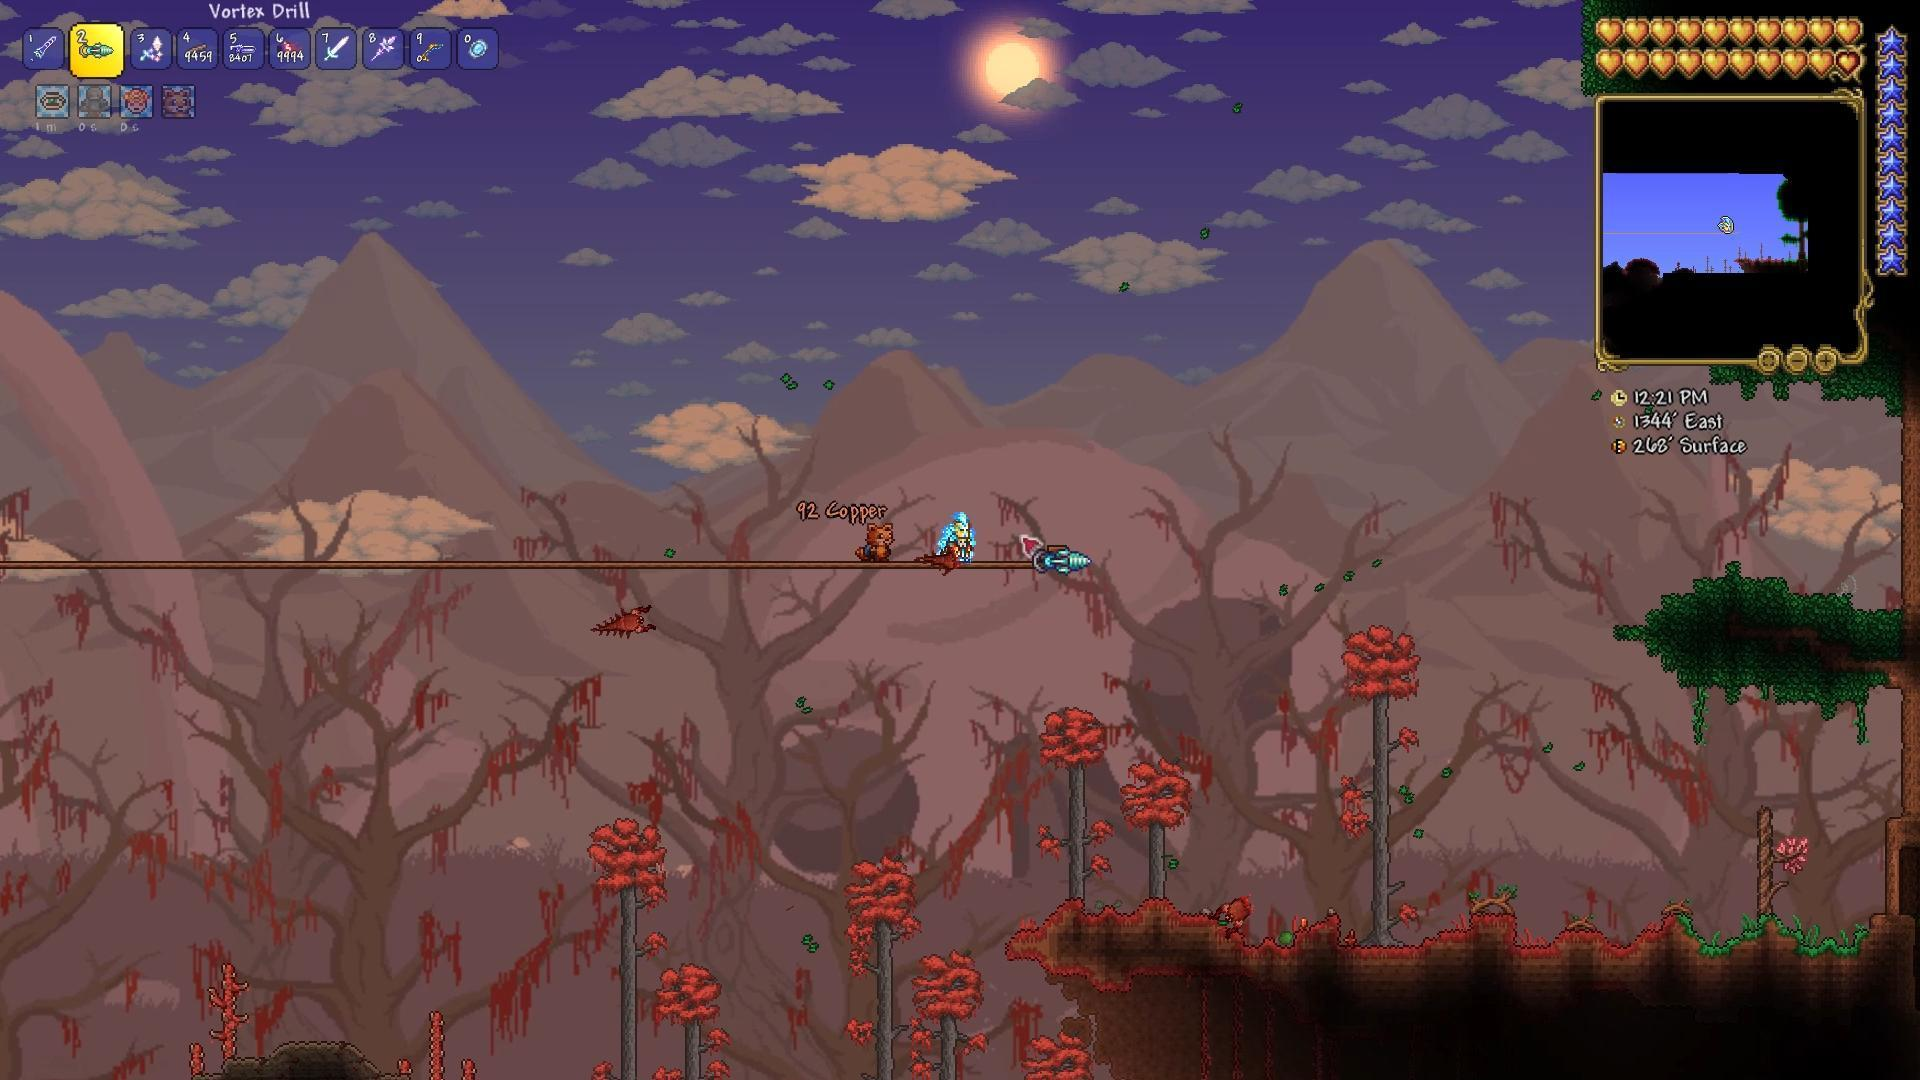crimera: (588, 593, 653, 640)
